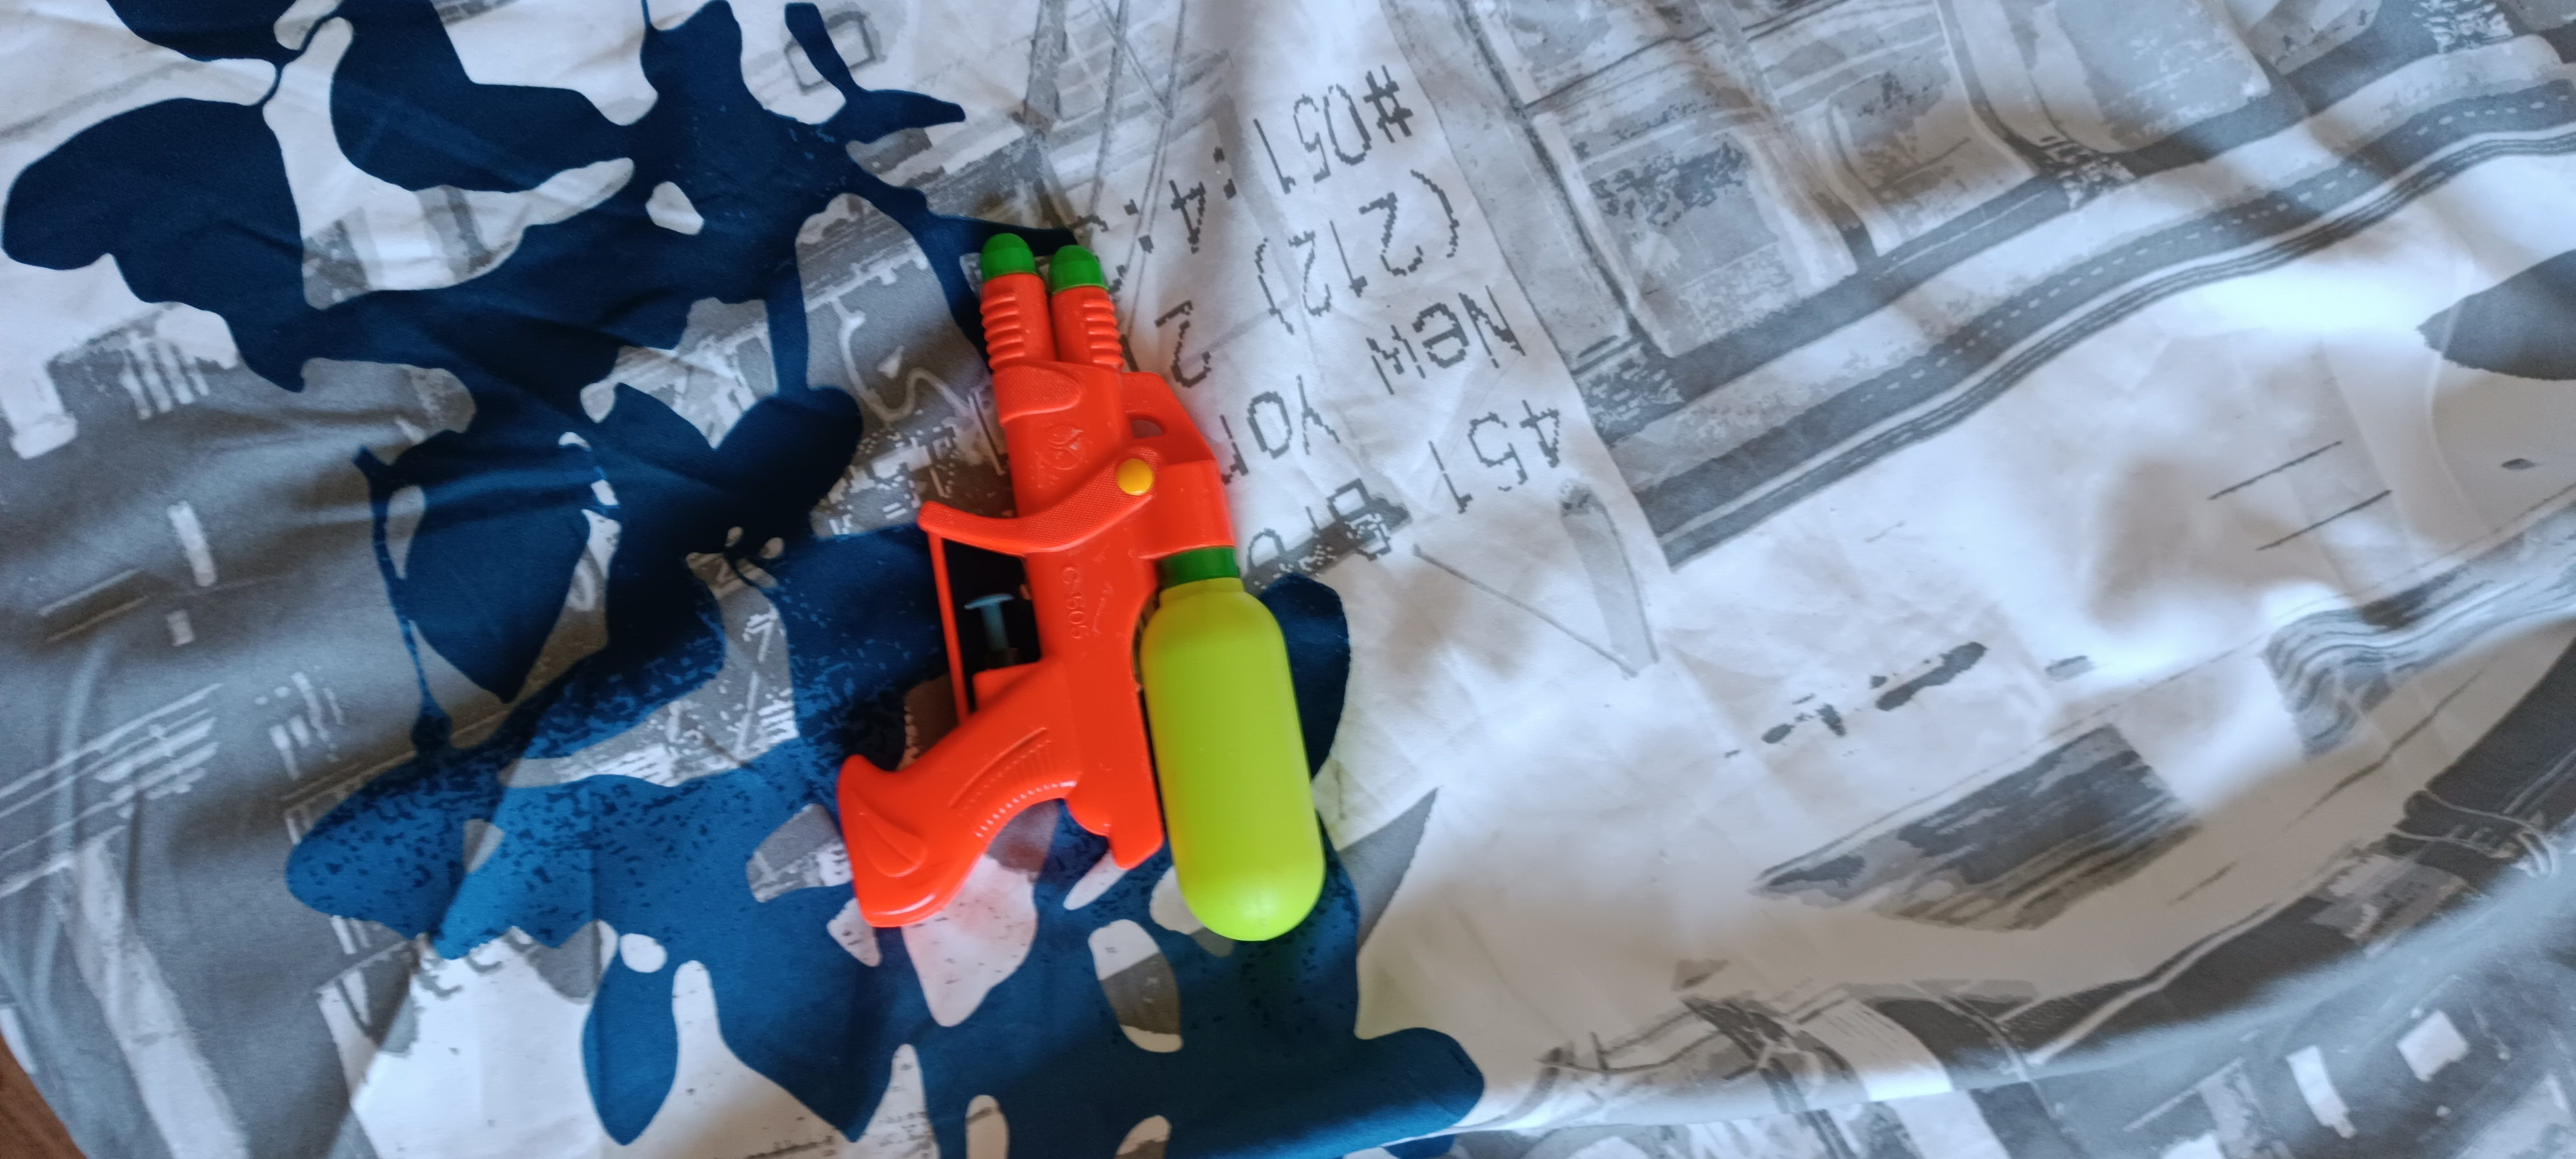Water Gun: (833, 227, 1327, 944)
